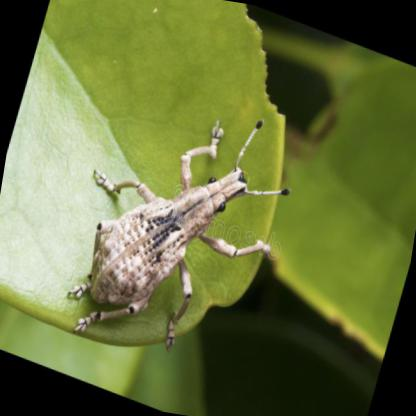ash weevil: (69, 121, 287, 353)
